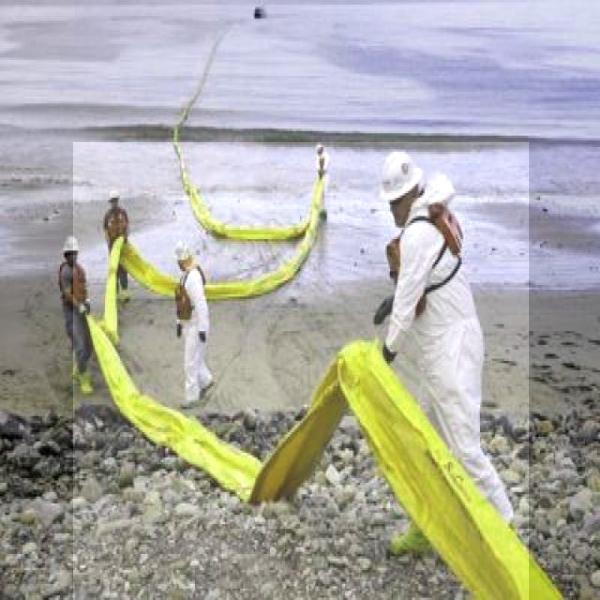no leak: (73, 142, 529, 600)
